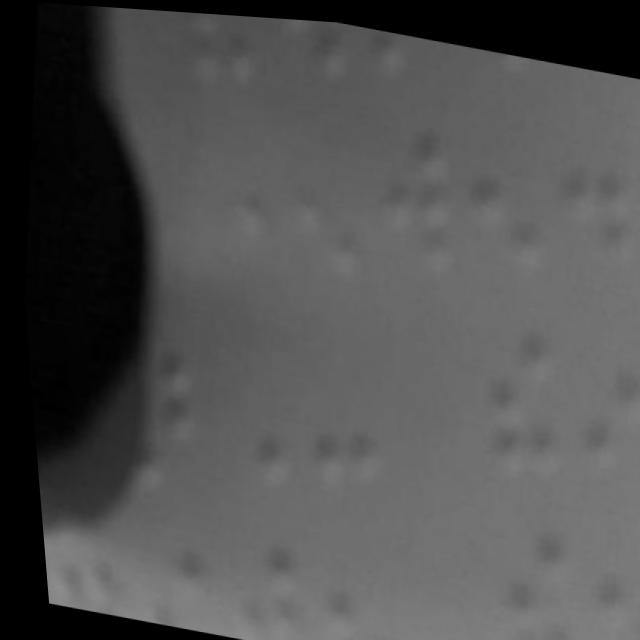braiile: (285, 317, 396, 503), (194, 306, 302, 497), (462, 300, 571, 485), (264, 121, 377, 297), (531, 96, 640, 269), (447, 106, 556, 276), (359, 109, 467, 280), (560, 303, 640, 479), (475, 510, 579, 640), (168, 9, 266, 110), (573, 510, 640, 640), (265, 14, 355, 99), (614, 95, 640, 254)
